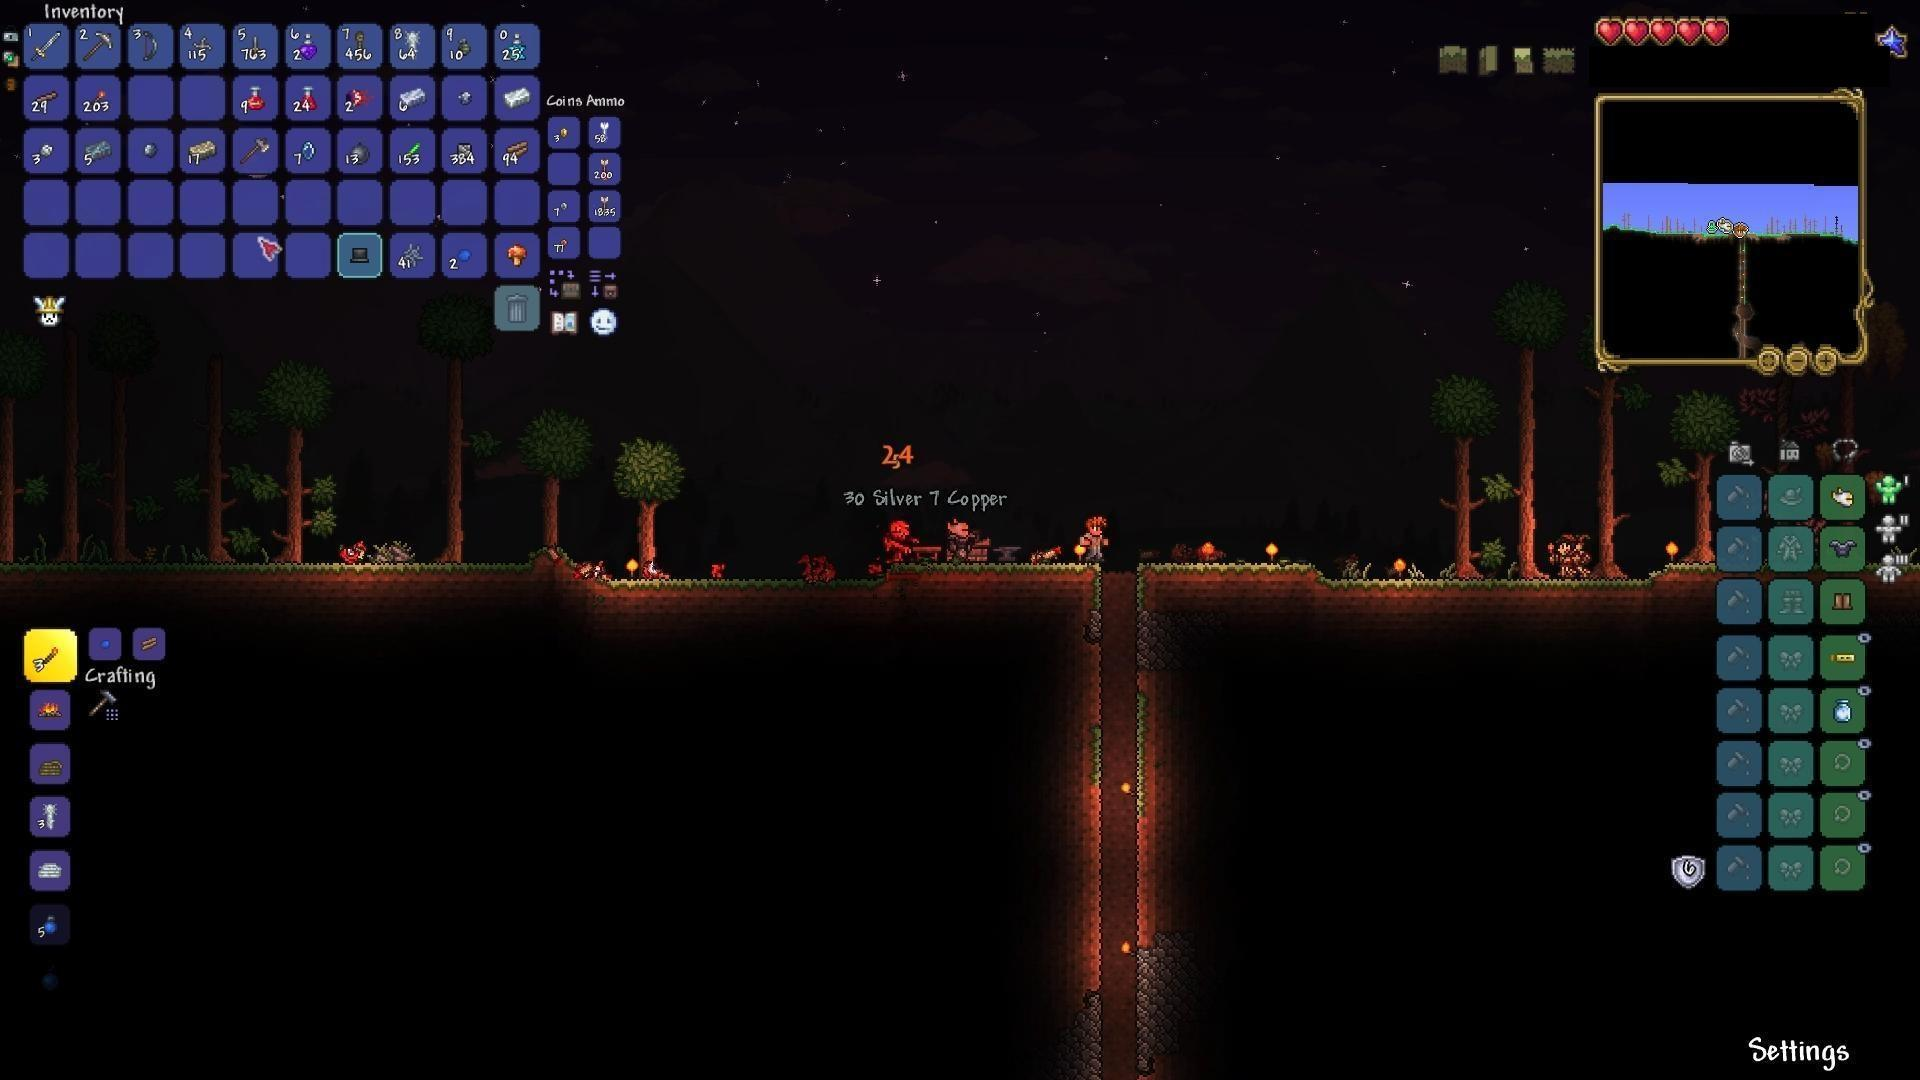dirt: (3, 549, 868, 597), (1134, 560, 1720, 596), (1130, 670, 1174, 945), (1075, 649, 1109, 985), (876, 558, 1108, 592)
heart: (1702, 17, 1733, 51), (1593, 16, 1626, 46), (1676, 15, 1704, 50), (1650, 16, 1676, 49), (1625, 15, 1651, 44)
stone: (1134, 943, 1158, 1068), (1131, 603, 1159, 670), (1085, 989, 1106, 1073), (1085, 608, 1106, 641)
tree: (1433, 368, 1491, 576), (1513, 272, 1549, 568), (618, 427, 676, 600), (1668, 380, 1721, 556), (270, 348, 309, 568)
